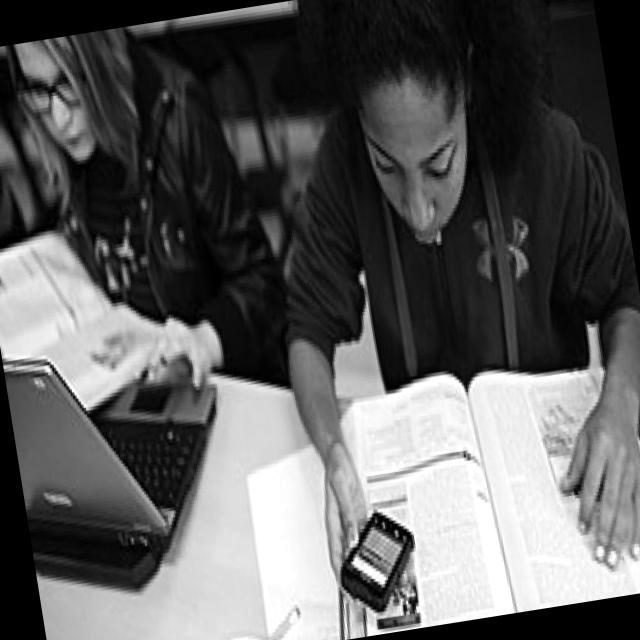phone: (330, 505, 424, 618)
